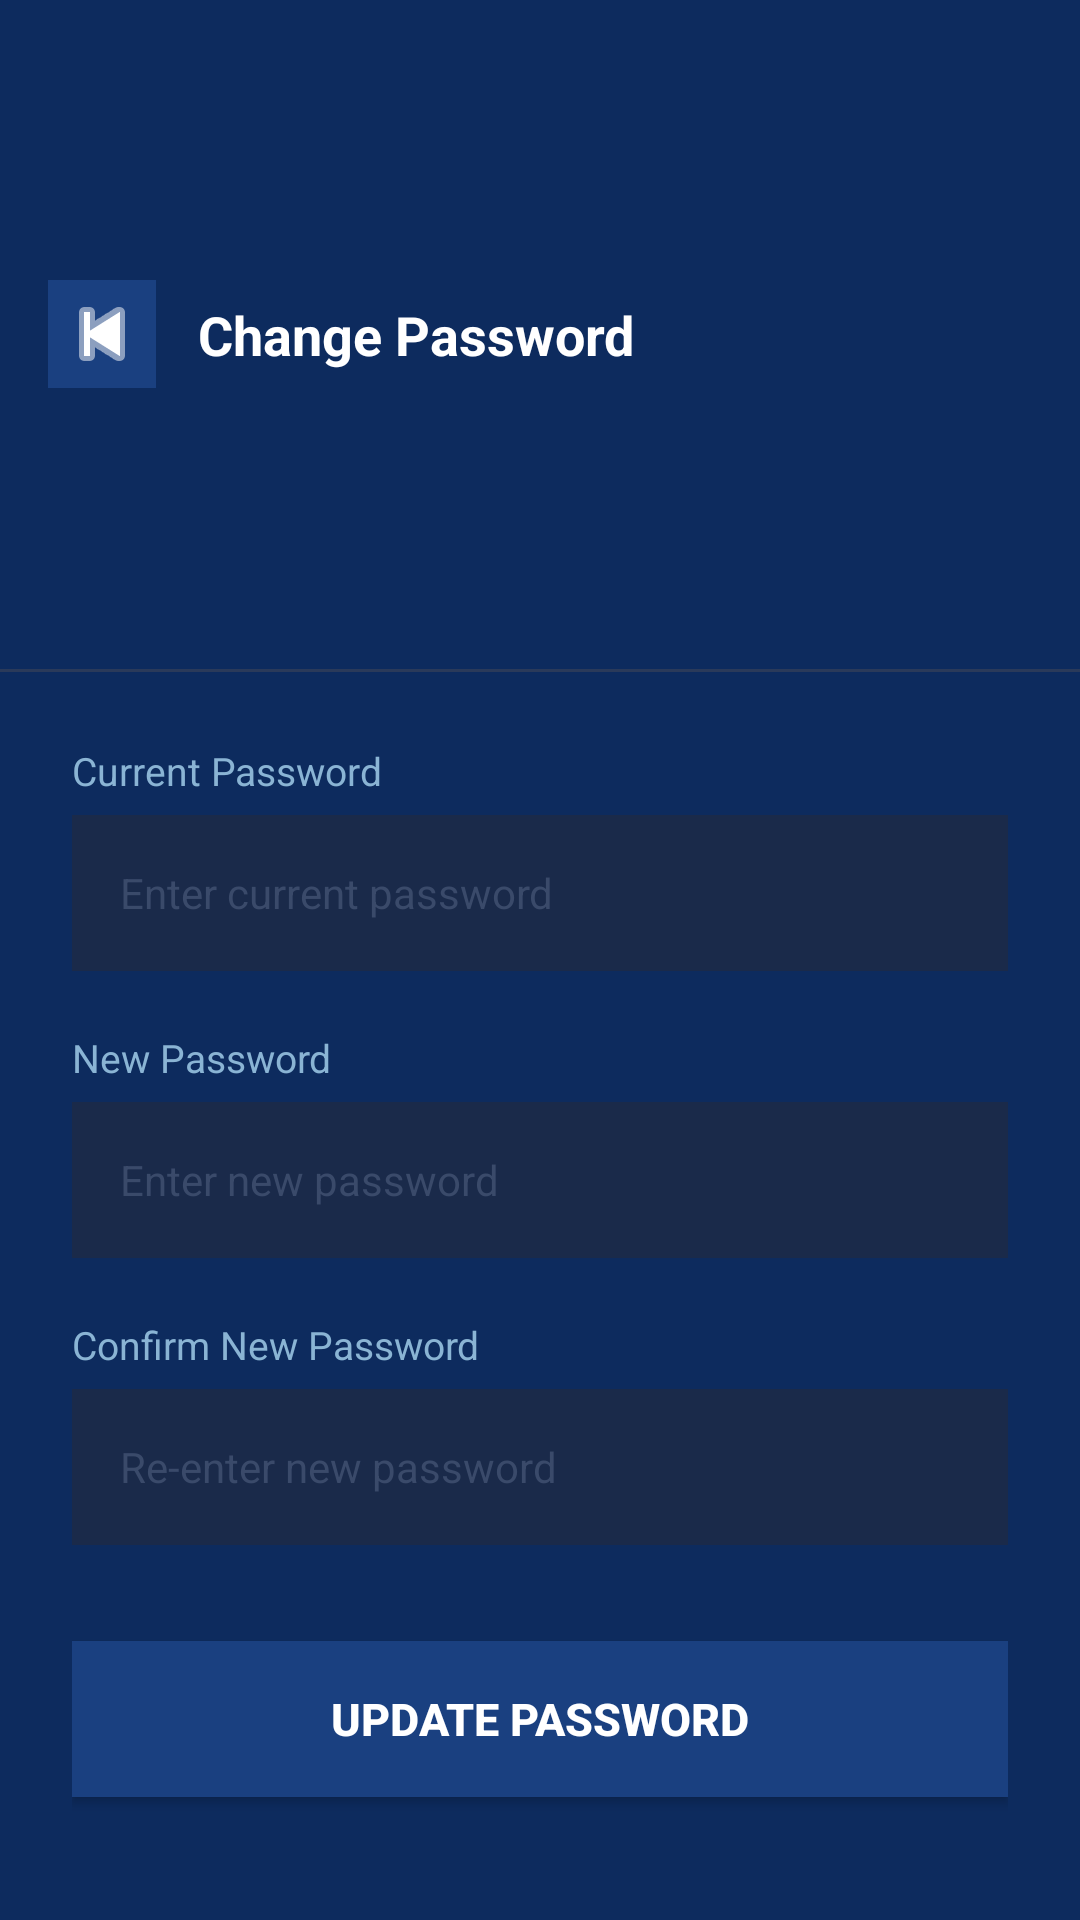

Icons on this 1080px×1920px Android screen, each with the point to tap as [x,y]:
Back: [102,334]
